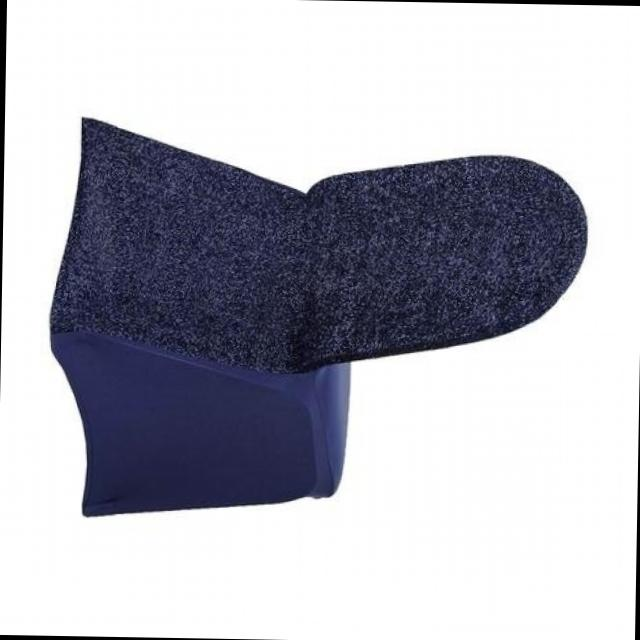Chair: (41, 113, 594, 527)
